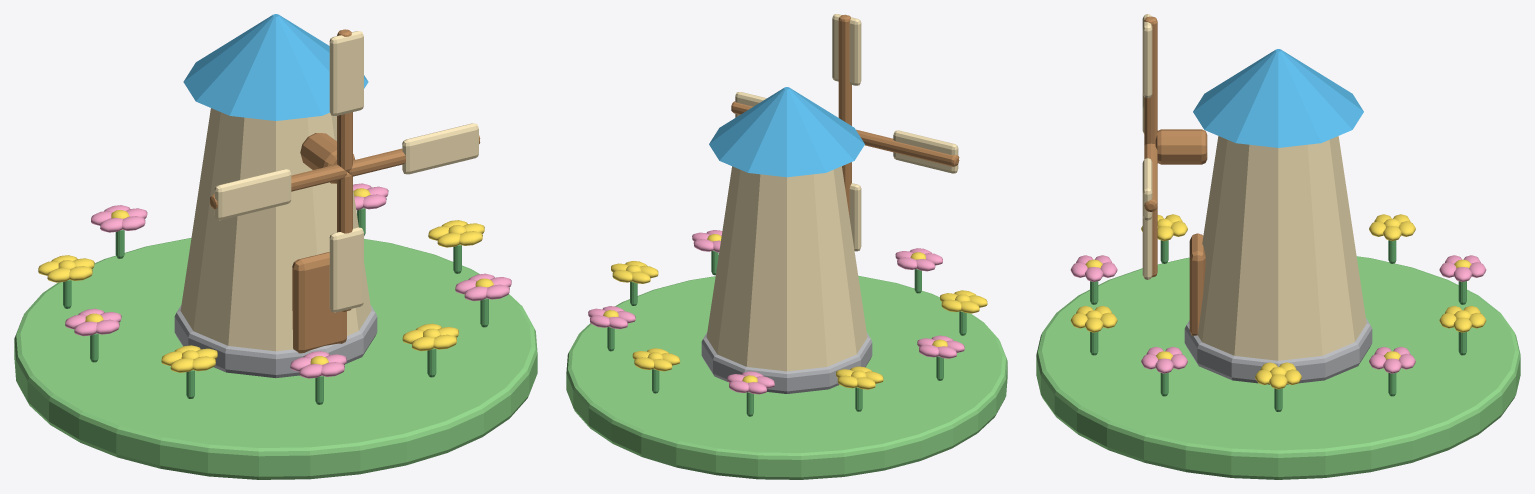
The model's file is region_mill.glb.
The picture shows the model from 3 angles, left to right: view 1: azimuth 30°, elevation 25°; view 2: azimuth 150°, elevation 25°; view 3: azimuth 270°, elevation 25°; orthographic projection. The views are drawn at different scales.
Visible parts, largest first — view 1: round grassy plot, Cone, Cone.001, stone footing, arched wooden door, curved fabric sail, curved fabric sail.003, curved fabric sail.002, curved fabric sail.001, windmill shaft, windmill arm.003, windmill arm (+2 smaller); view 2: round grassy plot, Cone, Cone.001, stone footing, windmill arm, curved fabric sail, curved fabric sail.003, windmill arm.003, curved fabric sail.002; view 3: round grassy plot, Cone, Cone.001, stone footing, windmill shaft, arched wooden door, windmill arm, curved fabric sail, curved fabric sail.002, windmill arm.001, curved fabric sail.001.
Part boxes in pixels (<box>): round grassy plot: <box>14,237,537,479</box>; Cone: <box>180,108,371,351</box>; Cone.001: <box>183,14,368,120</box>; stone footing: <box>174,305,377,377</box>; arched wooden door: <box>292,252,346,353</box>; curved fabric sail: <box>329,31,363,115</box>; curved fabric sail.003: <box>214,169,291,220</box>; curved fabric sail.002: <box>329,227,363,312</box>; curved fabric sail.001: <box>402,123,478,174</box>; windmill shaft: <box>300,133,355,183</box>; windmill arm.003: <box>210,164,346,209</box>; windmill arm: <box>337,29,352,171</box>; round grassy plot: <box>566,275,1007,479</box>; Cone: <box>706,166,867,371</box>; Cone.001: <box>709,87,864,177</box>; stone footing: <box>701,332,872,393</box>; windmill arm: <box>838,14,851,125</box>; curved fabric sail: <box>832,14,861,85</box>; curved fabric sail.003: <box>893,130,958,173</box>; windmill arm.003: <box>856,129,959,166</box>; curved fabric sail.002: <box>849,183,861,251</box>; round grassy plot: <box>1036,256,1520,479</box>; Cone: <box>1198,136,1366,360</box>; Cone.001: <box>1193,49,1363,147</box>; stone footing: <box>1184,318,1372,384</box>; windmill shaft: <box>1155,129,1207,164</box>; arched wooden door: <box>1189,233,1205,336</box>; windmill arm: <box>1144,16,1157,144</box>; curved fabric sail: <box>1142,14,1152,98</box>; curved fabric sail.002: <box>1142,216,1152,279</box>; windmill arm.001: <box>1144,143,1157,211</box>; curved fabric sail.001: <box>1142,158,1152,220</box>.
Bounding box in the file's own units: 3 × 2.47 × 3.
